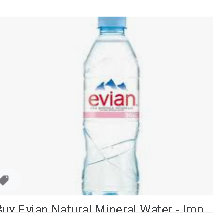Bottle: (83, 17, 140, 196)
